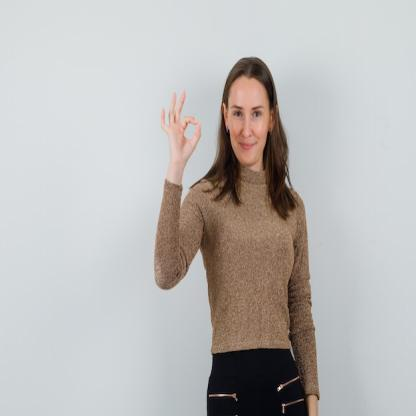ok: (158, 87, 204, 164)
